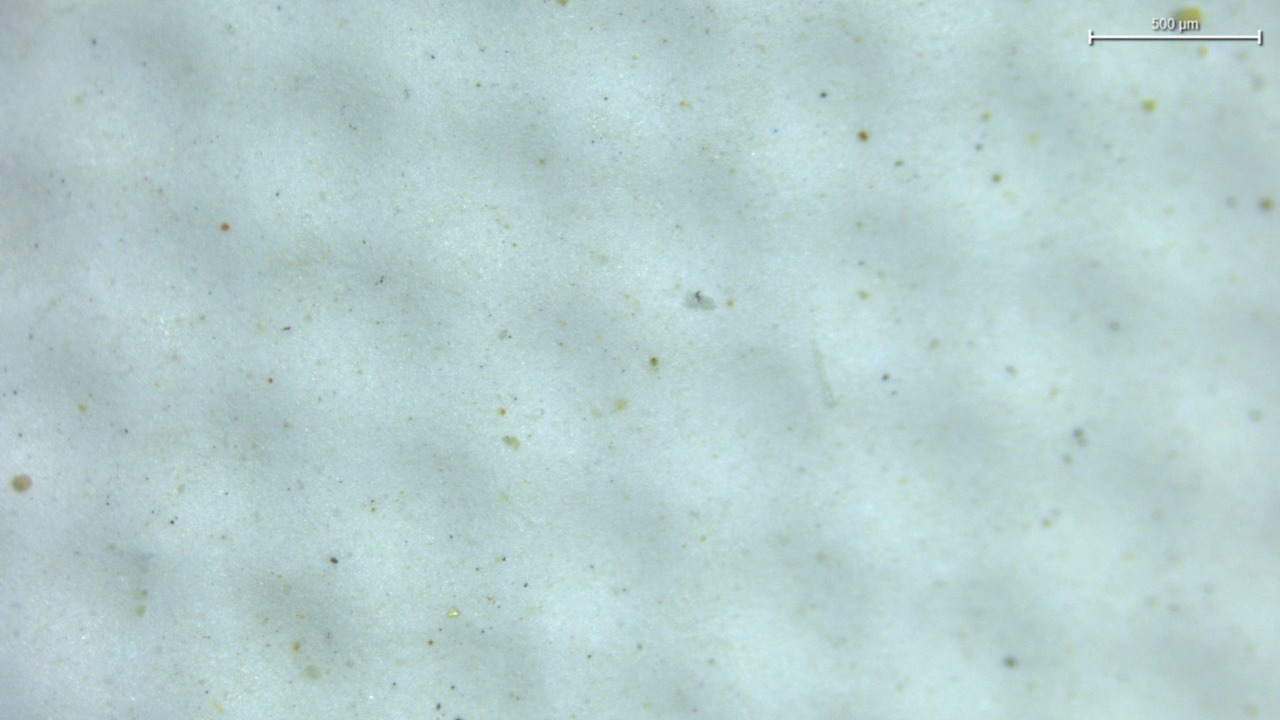microplastic_fragment: (447, 607, 460, 617)
